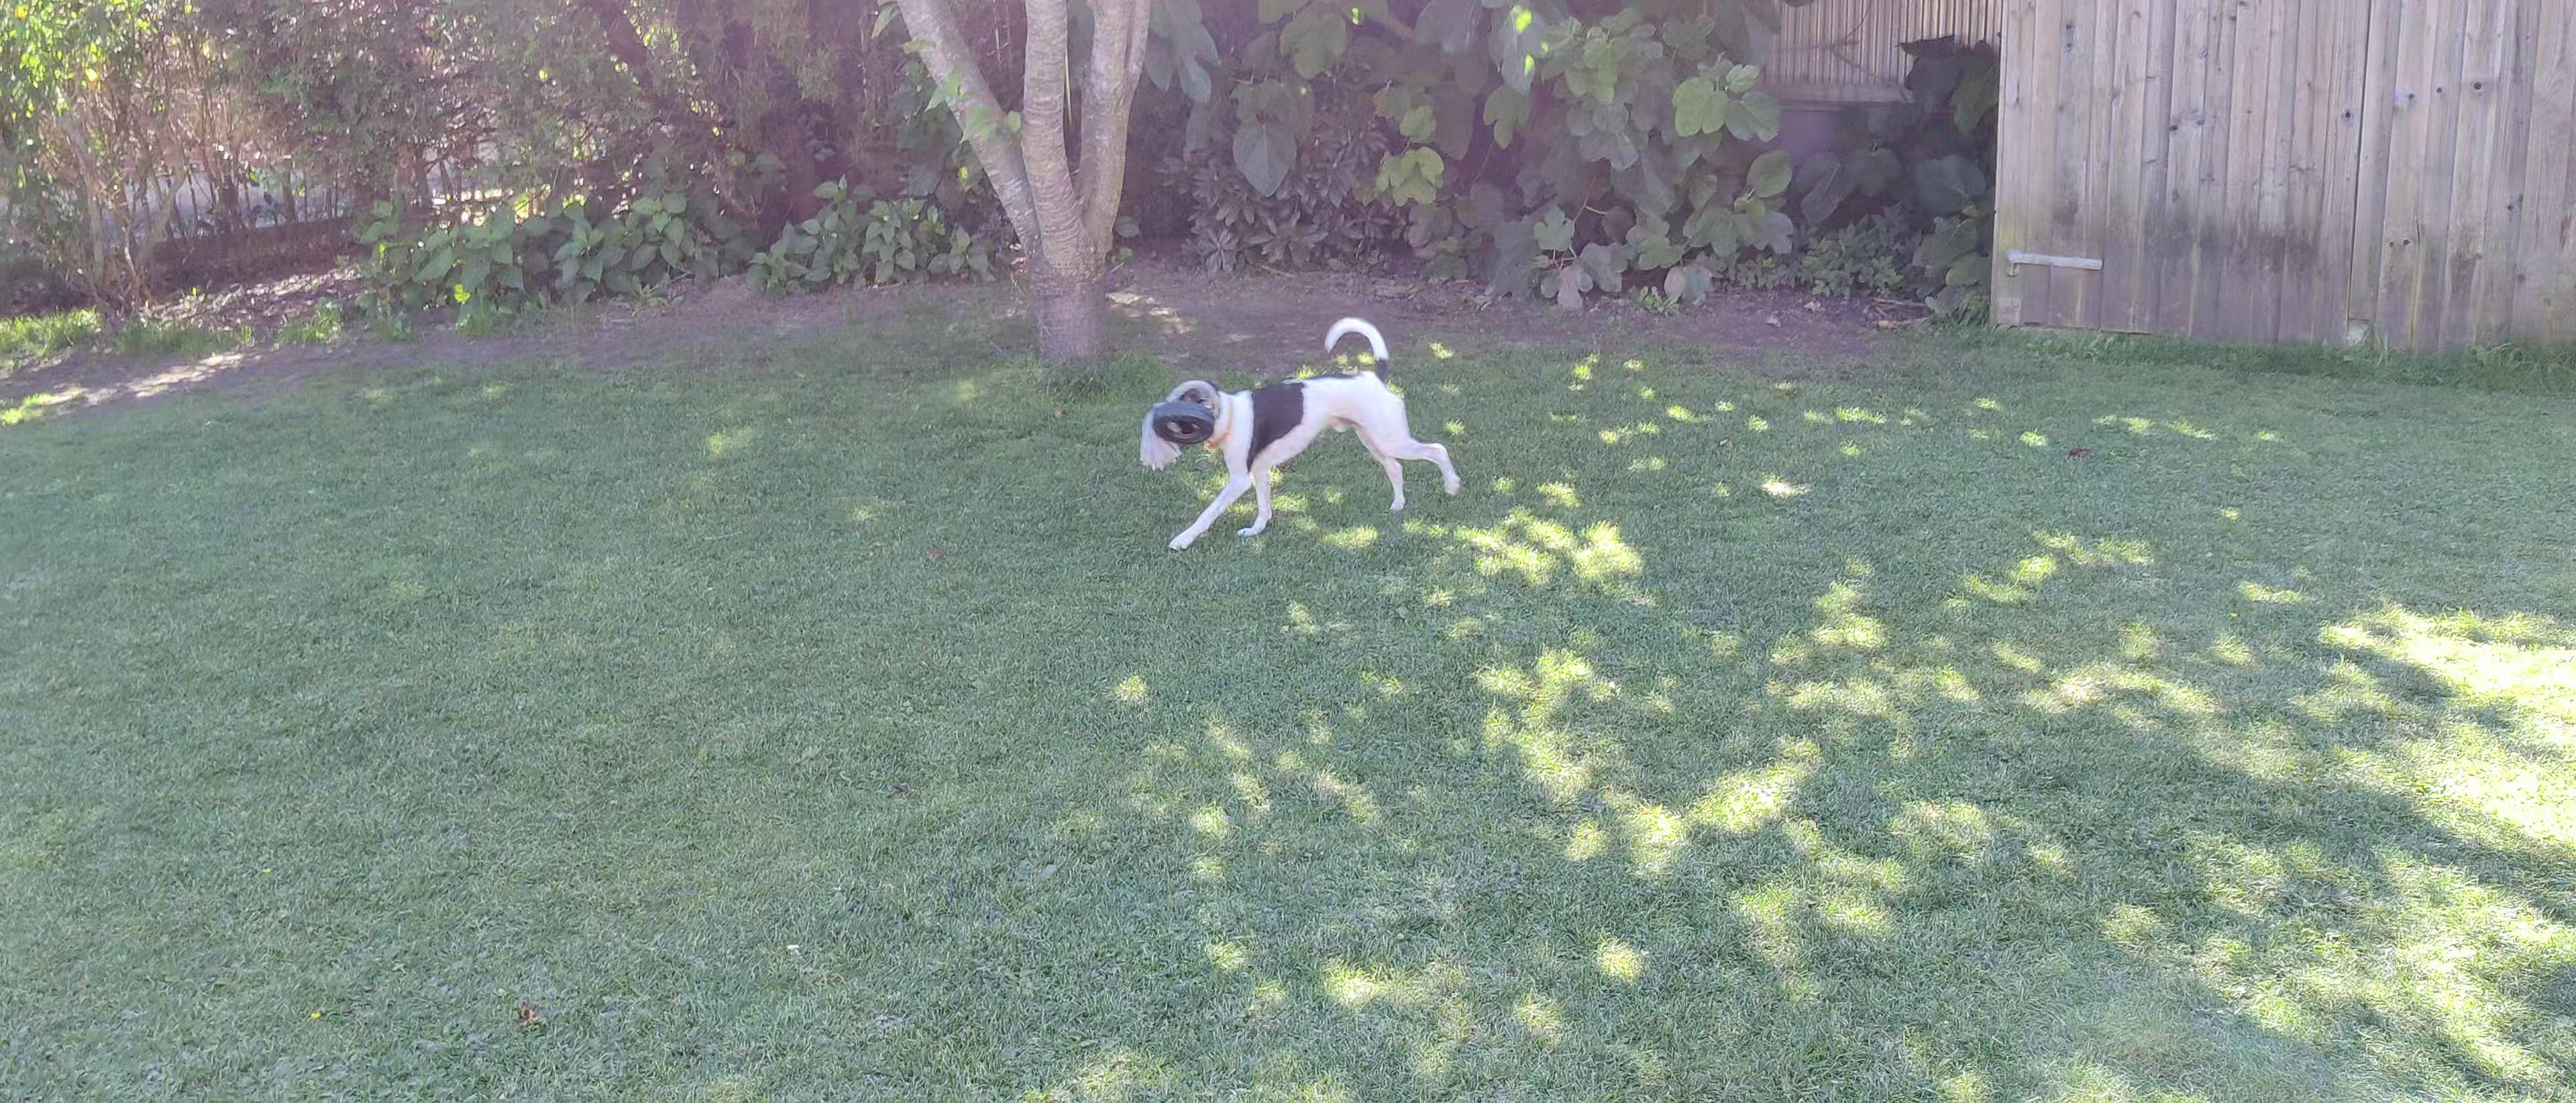Dog: (1145, 299, 1470, 559)
